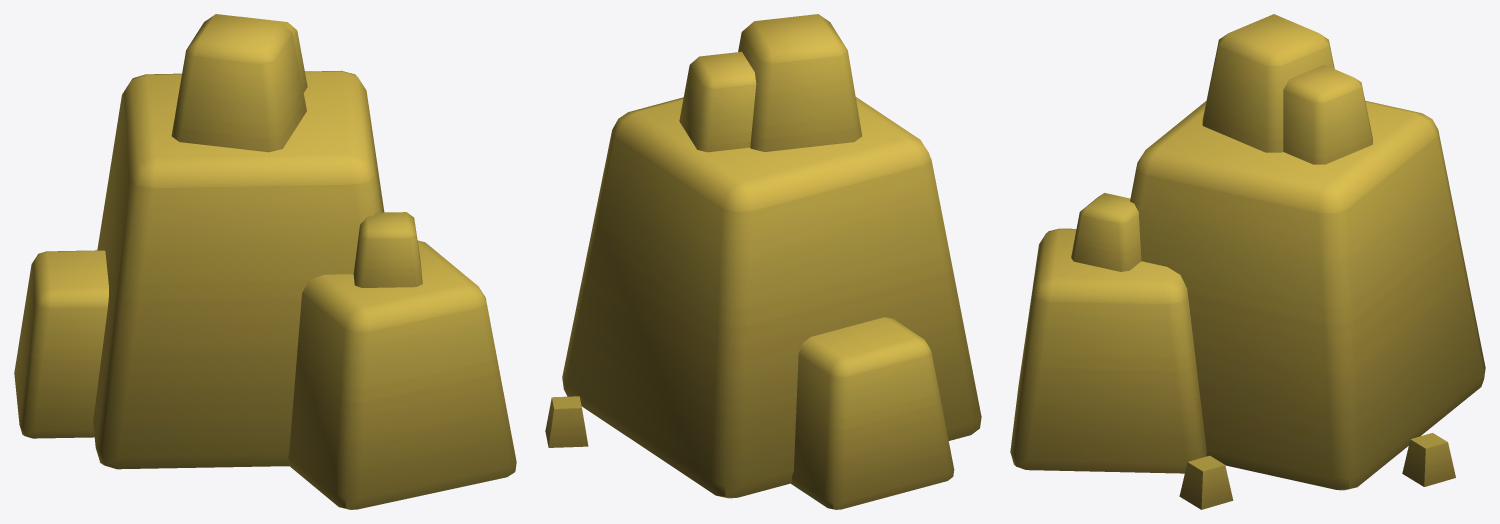
Rendered from rock_2_e_color1.76a4623a.glb.
The picture shows the model from 3 angles, left to right: view 1: azimuth 30°, elevation 25°; view 2: azimuth 150°, elevation 25°; view 3: azimuth 270°, elevation 25°; orthographic projection. The views are drawn at different scales.
Visible parts, largest first — view 1: Rock_2_E_Color1; view 2: Rock_2_E_Color1; view 3: Rock_2_E_Color1.
Boxes of the visible parts, left/top/right/bottom form: Rock_2_E_Color1: left=14, top=14, right=516, bottom=509; Rock_2_E_Color1: left=545, top=14, right=981, bottom=509; Rock_2_E_Color1: left=1010, top=14, right=1485, bottom=509.
Bounding box in the file's own units: 3.17 × 2.86 × 3.31.
Materials: 1 (1 with a texture image).
